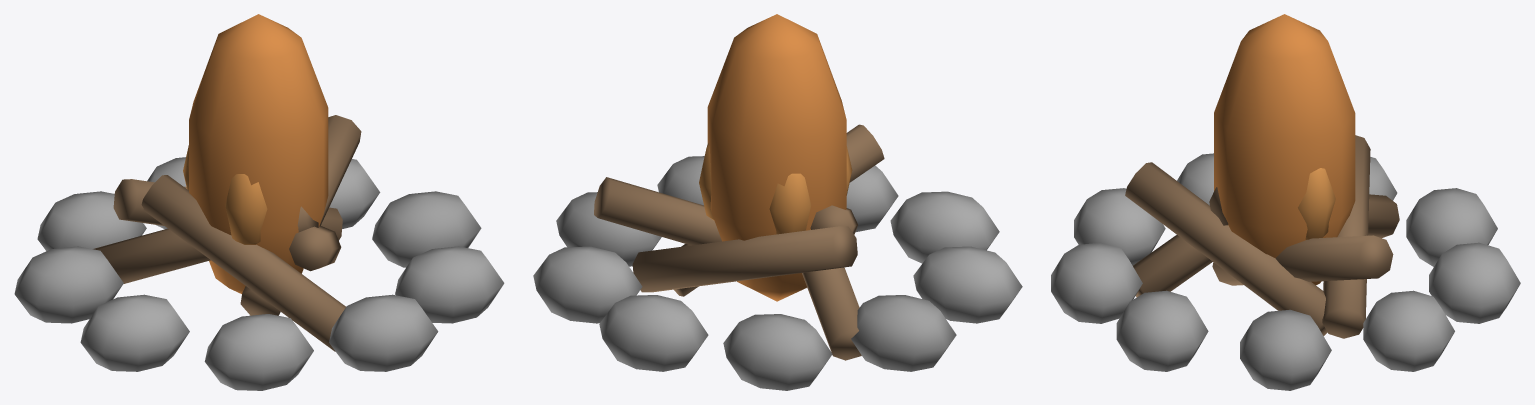
The model's file is campfire_lite.glb.
3 views of the same model, side by side, from view 1: azimuth 30°, elevation 25°; view 2: azimuth 150°, elevation 25°; view 3: azimuth 270°, elevation 25° (orthographic).
Visible parts, largest first — view 1: Sphere; view 2: Sphere; view 3: Sphere.
Part boxes in pixels (bbox=[...]): Sphere: bbox=[14, 14, 504, 390]; Sphere: bbox=[533, 14, 1022, 390]; Sphere: bbox=[1051, 14, 1520, 390].
Bounding box in the file's own units: 1.57 × 1.03 × 1.52.
